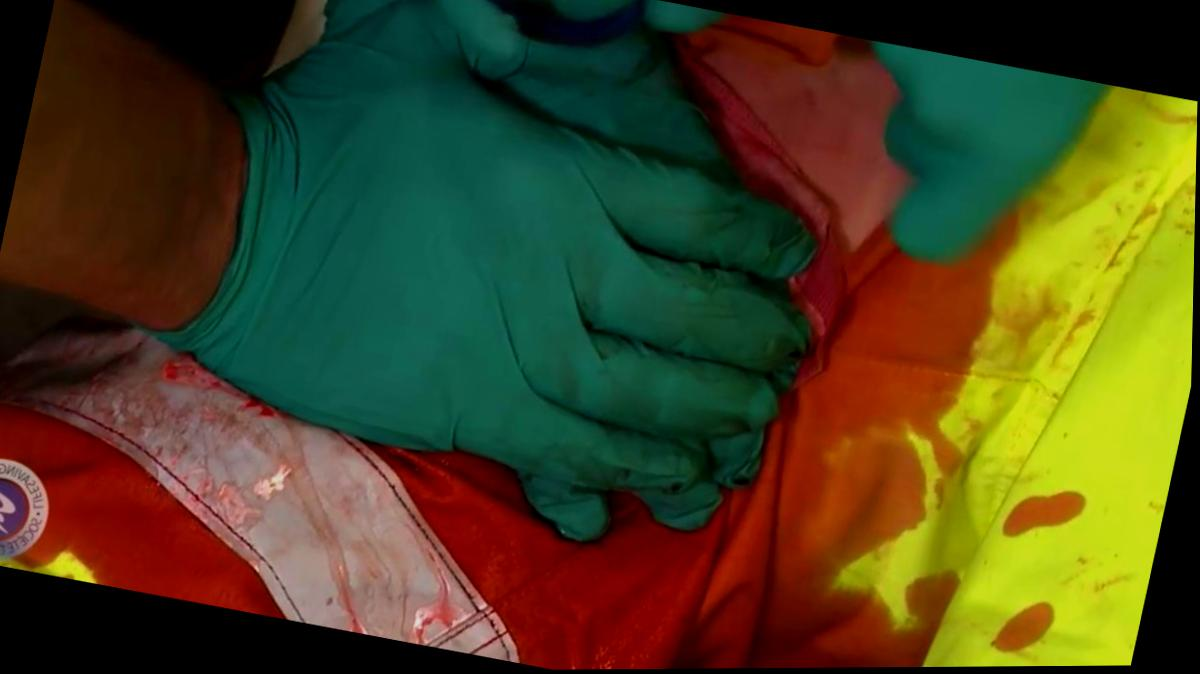Fire: (0, 15, 1015, 671), (1007, 493, 1089, 538), (996, 606, 1058, 653)
